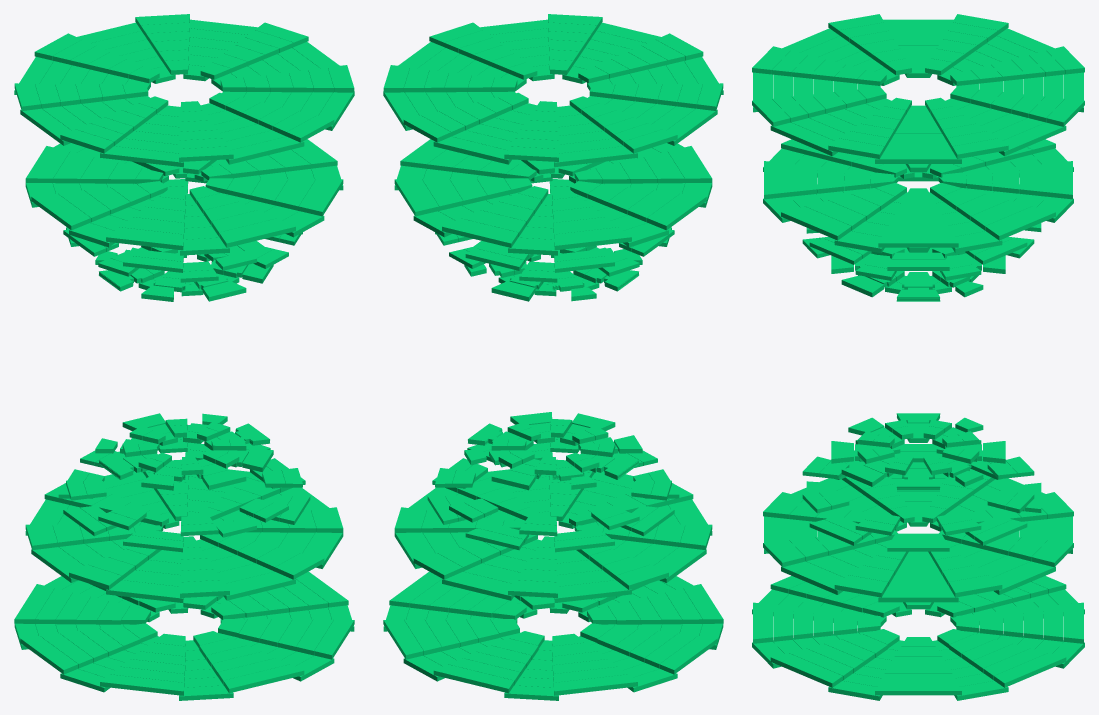
File: rmuonendcapmdt.fbx
3 renders of one model, left to right at view 1: azimuth 30°, elevation 25°; view 2: azimuth 150°, elevation 25°; view 3: azimuth 270°, elevation 25°, orthographic.
Visible parts, largest first — view 1: /tmp/importOpenSceneGraph8691c/RMuonEndcapMDT.wrl_Group_Grou (×85); view 2: /tmp/importOpenSceneGraph8691c/RMuonEndcapMDT.wrl_Group_Grou (×87); view 3: /tmp/importOpenSceneGraph8691c/RMuonEndcapMDT.wrl_Group_Grou (×87).
Part boxes in pixels (<box>): /tmp/importOpenSceneGraph8691c/RMuonEndcapMDT.wrl_Group_Grou (×85): <box>14,19,354,700</box>; /tmp/importOpenSceneGraph8691c/RMuonEndcapMDT.wrl_Group_Grou (×87): <box>383,19,723,700</box>; /tmp/importOpenSceneGraph8691c/RMuonEndcapMDT.wrl_Group_Grou (×87): <box>752,14,1084,700</box>.
Size of the model in its own units: 24322 by 44045 by 24322.
